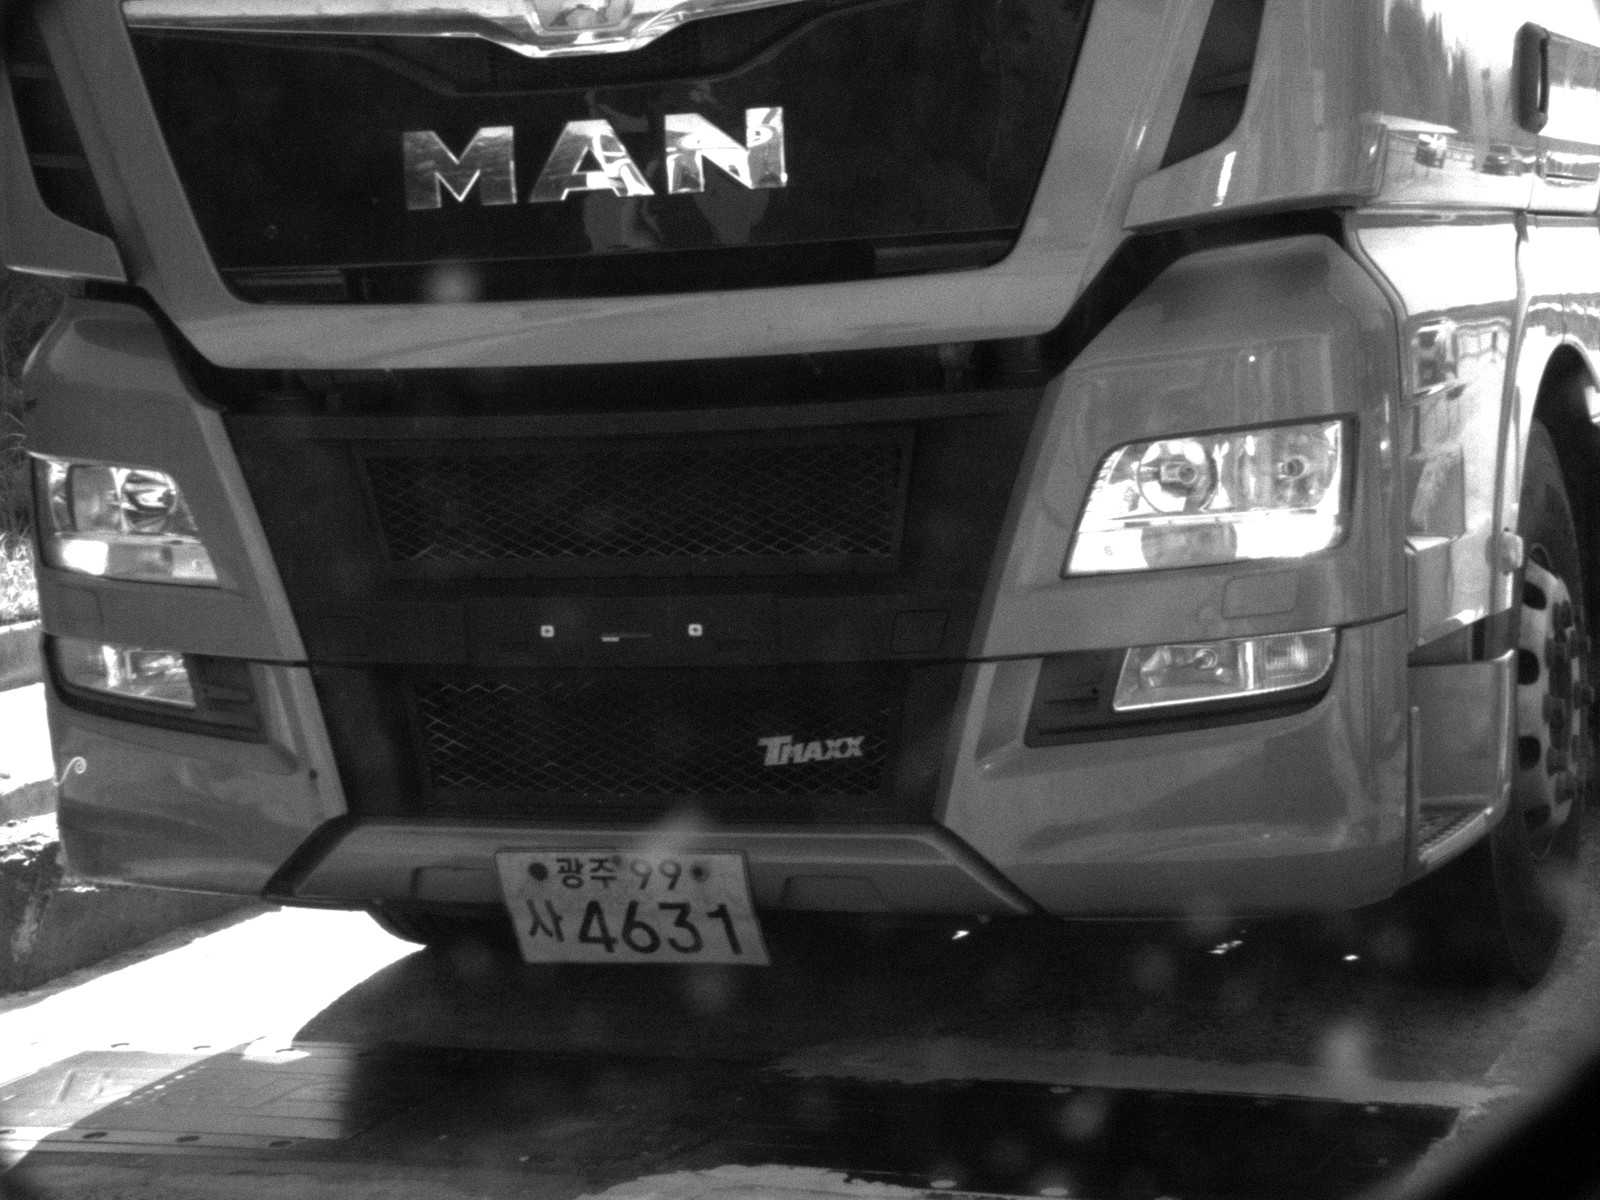car: (1, 1, 1597, 1000)
plate: (495, 845, 769, 968)
